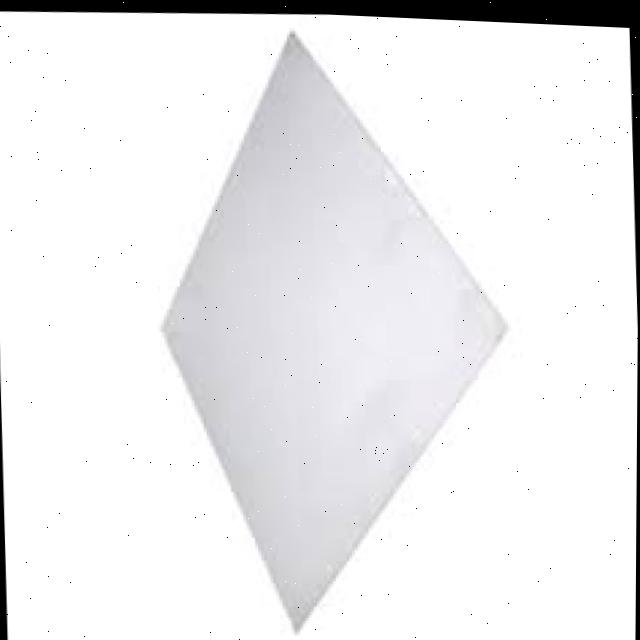Dry: (160, 28, 510, 631)
